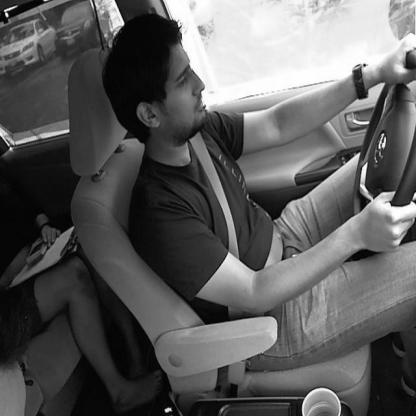seatbelt: (96, 11, 250, 235)
